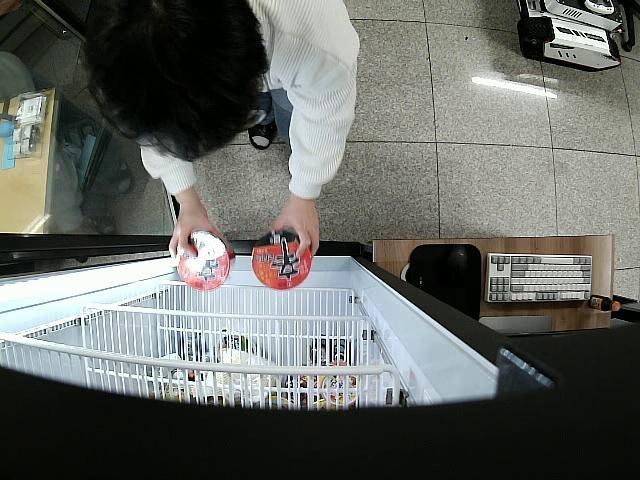01_ShinRamen_L: (177, 234, 236, 291), (253, 231, 310, 288)
